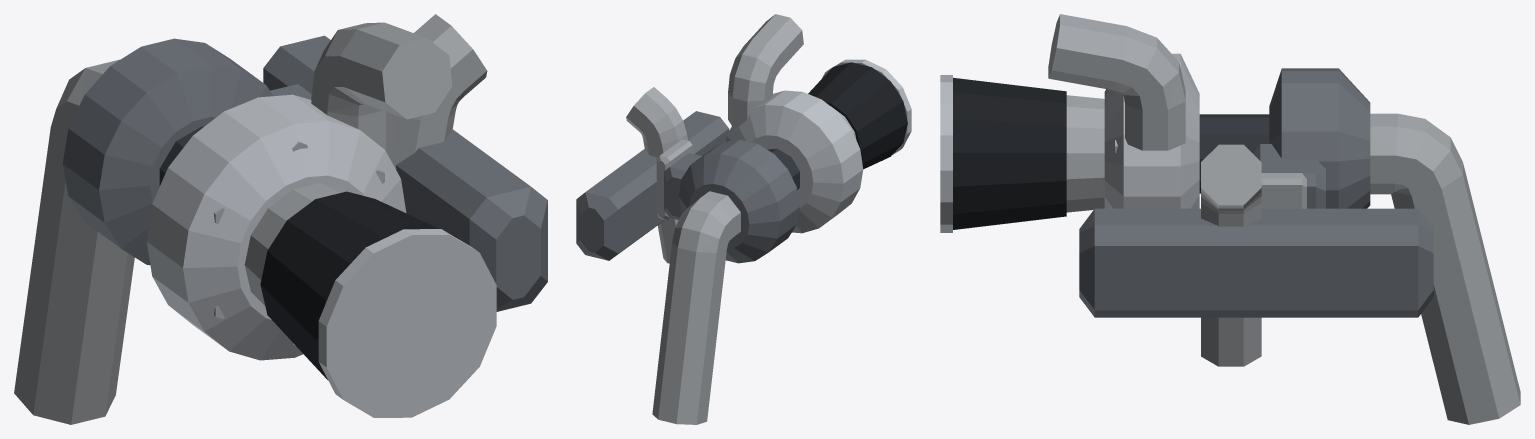
The model's file is hana_roadster_turbo_kit.glb.
3 renders of one model, left to right at view 1: azimuth 30°, elevation 25°; view 2: azimuth 150°, elevation 25°; view 3: azimuth 270°, elevation 25°, orthographic. The views are drawn at different scales.
Visible parts, largest first — view 1: model; view 2: model; view 3: model.
Part boxes in pixels (x1,y1,x2,y2): model: [14, 14, 547, 424]; model: [576, 14, 911, 424]; model: [940, 14, 1520, 424].
Size of the model in its own units: 0.2604 by 0.3701 by 0.4588.
Materials: 2 (1 with a texture image).
